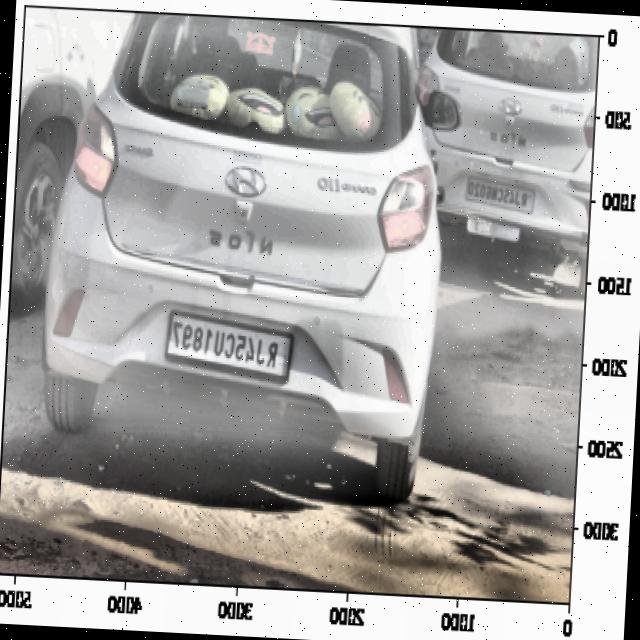license_plate: (165, 317, 288, 375)
